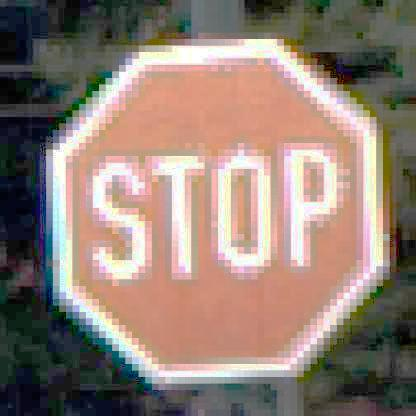Stop Sign: (42, 37, 394, 387)
